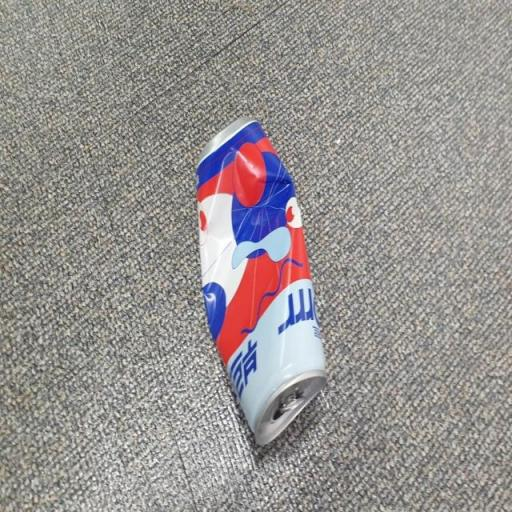metal: (169, 78, 349, 464)
